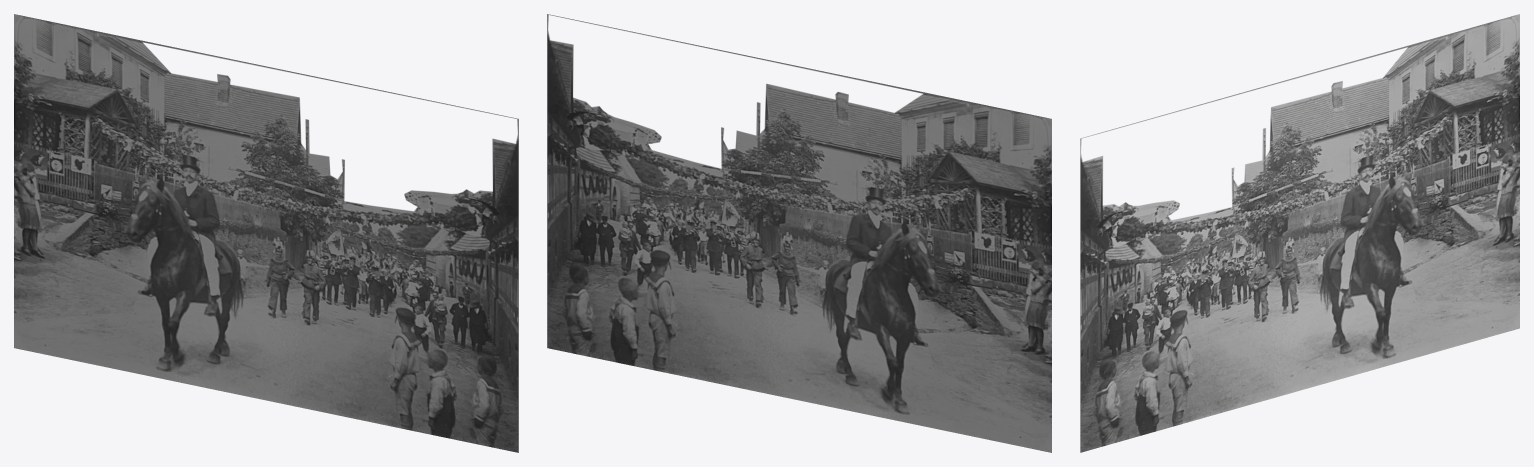
The model's file is umzug.gltf.
3 views of the same model, side by side, from view 1: azimuth 30°, elevation 25°; view 2: azimuth 210°, elevation 25°; view 3: azimuth 270°, elevation 25° (orthographic). The views are drawn at different scales.
Parts seen in each view (by area): view 1: umzug; view 2: umzug; view 3: umzug.
Boxes of the visible parts, x1,y1,x2,y2 form: umzug: [14, 14, 518, 452]; umzug: [547, 14, 1051, 452]; umzug: [1080, 14, 1519, 452].
Bounding box in the file's own units: 8.02 × 9.45 × 11.97.
Materials: 1 (1 with a texture image).
